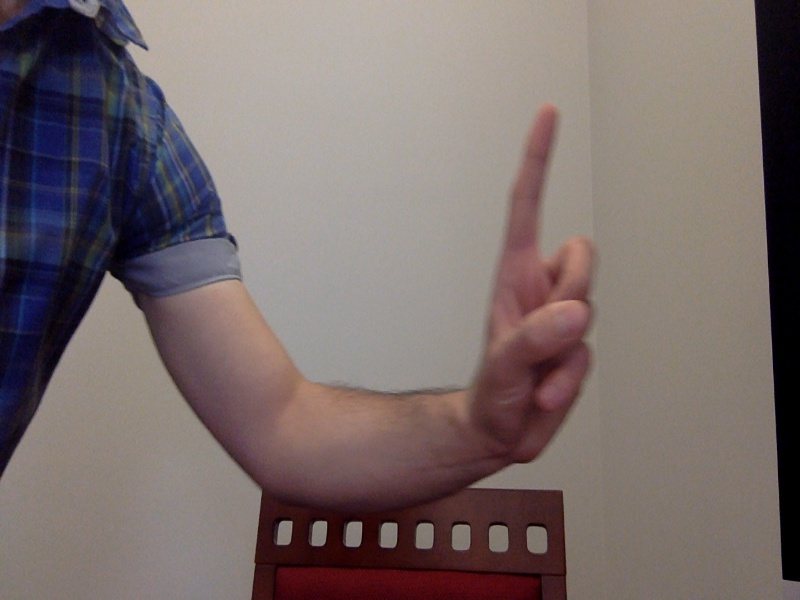1-hand: (474, 103, 598, 467)
